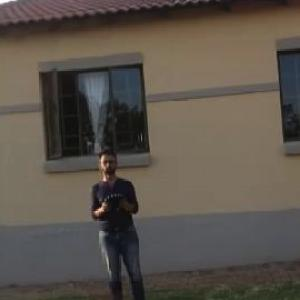follow: (87, 144, 153, 299)
